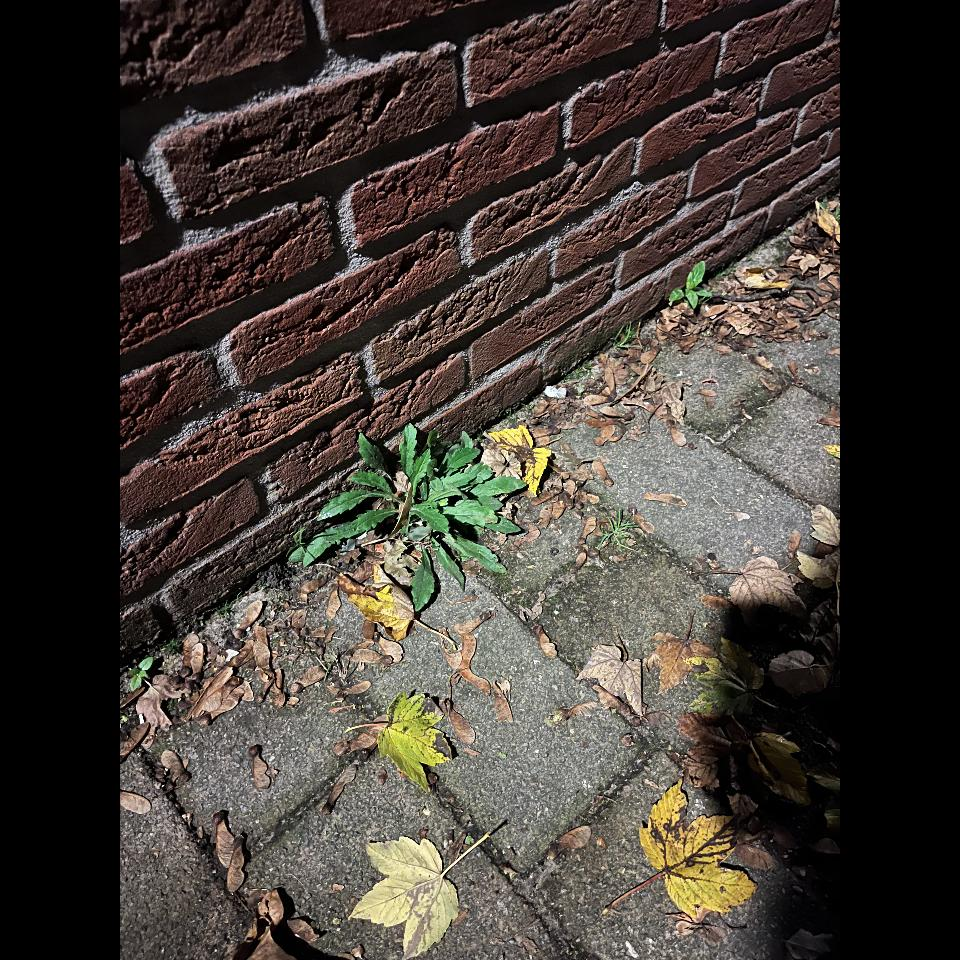weed: (288, 432, 524, 606), (670, 262, 714, 324), (131, 662, 167, 692)
